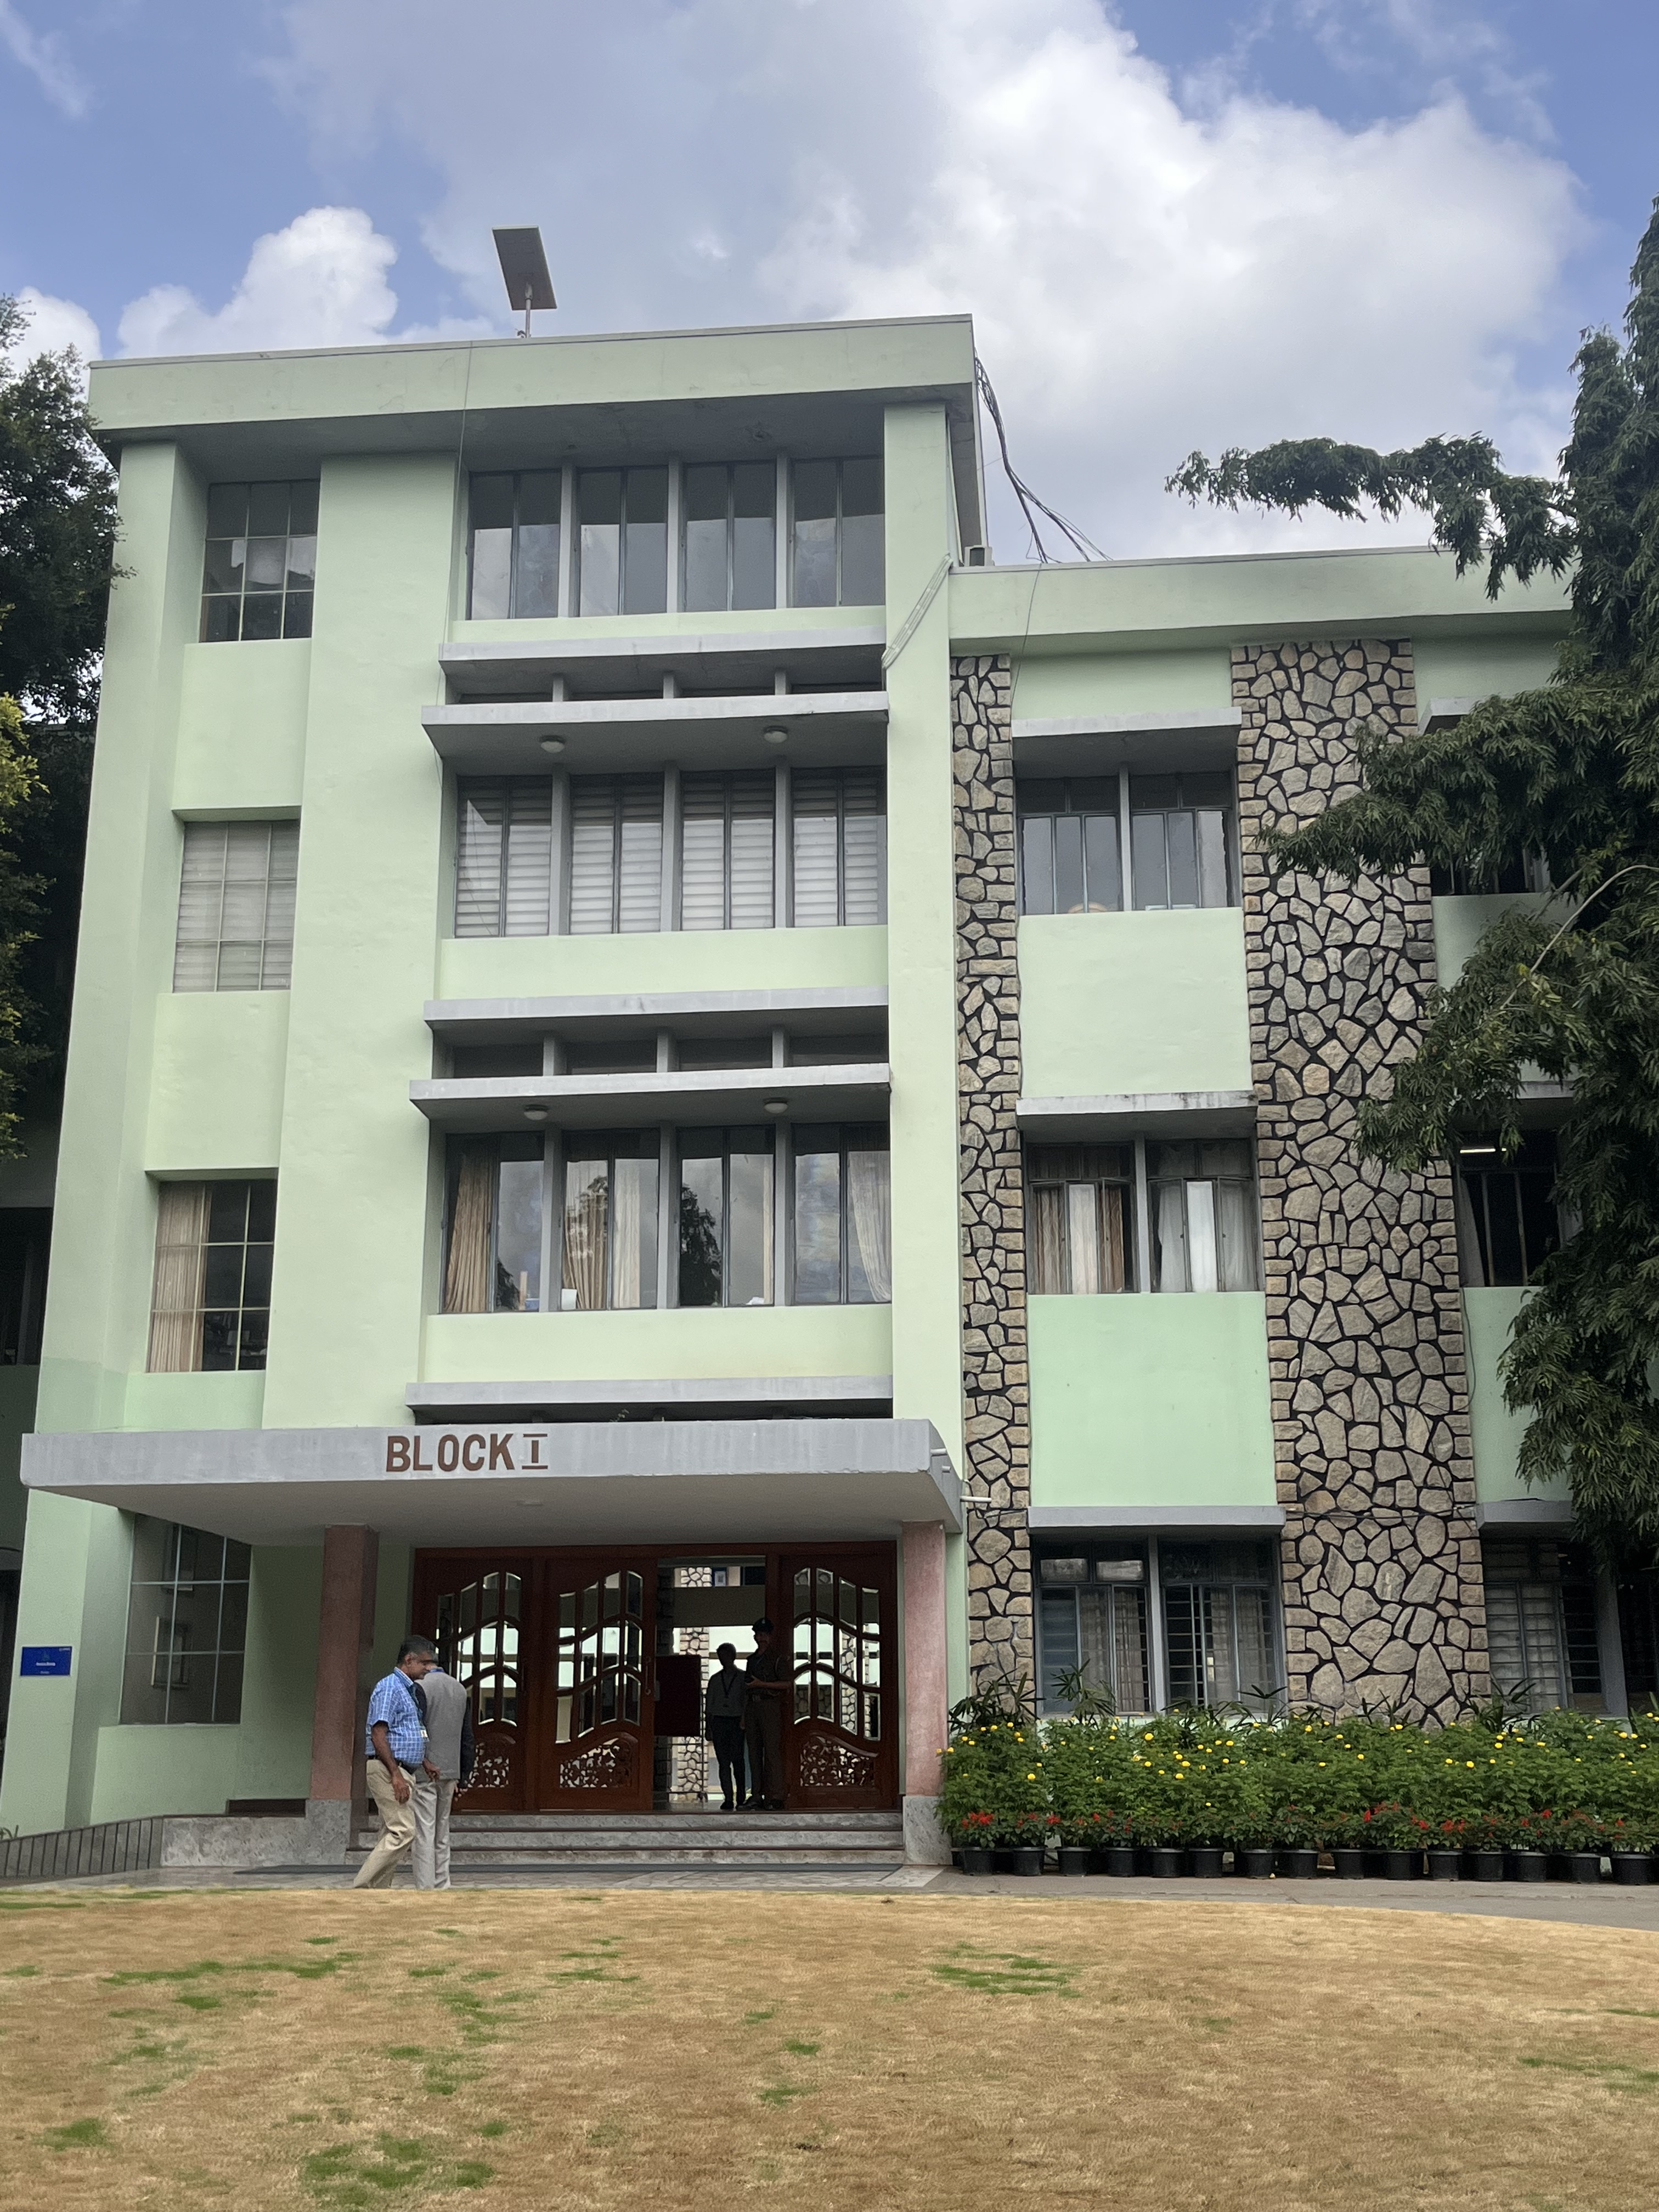Block 1: (37, 320, 1659, 1895)
